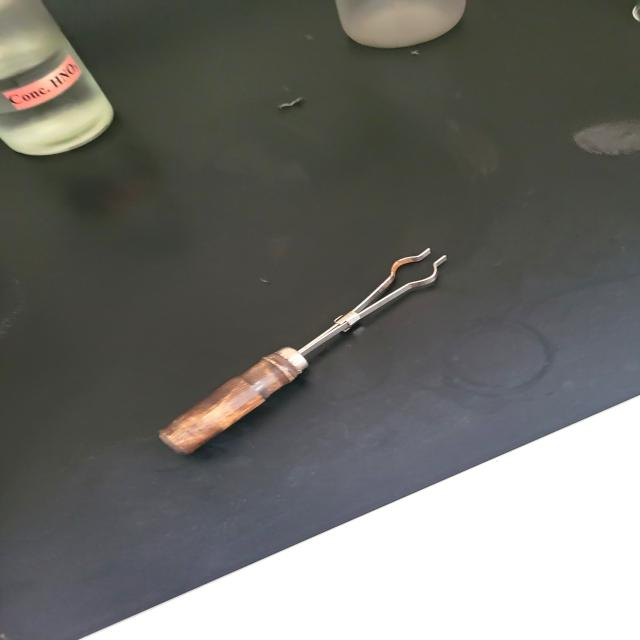TestTube_Holder: (134, 241, 485, 459)
